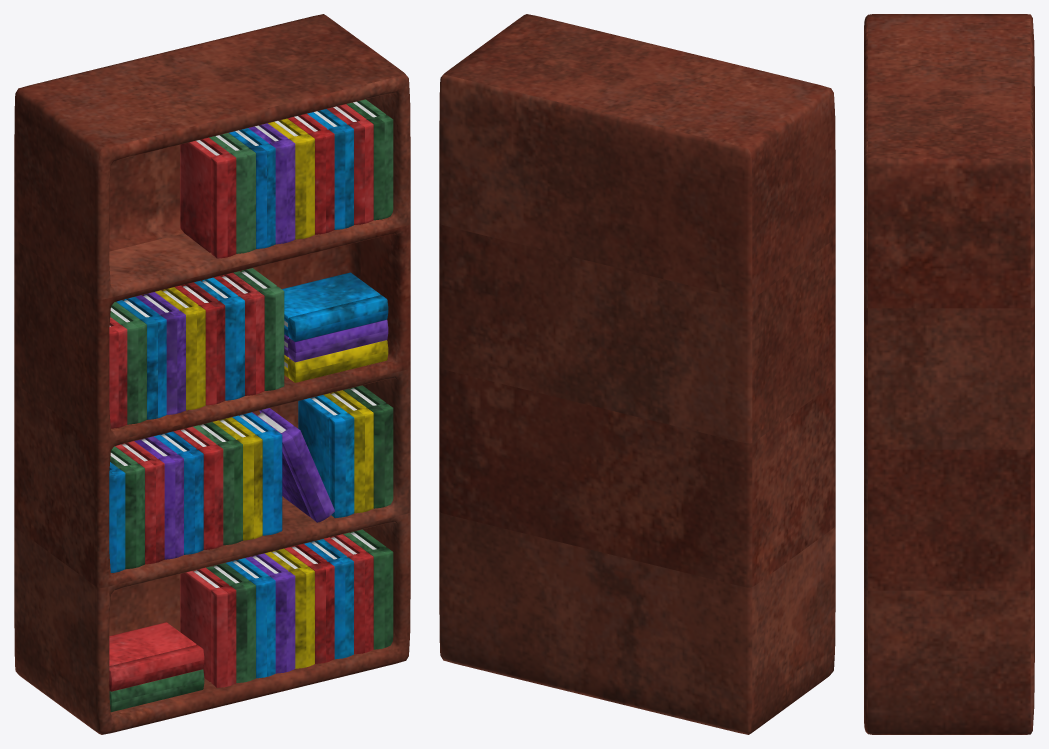
File: Bookshelf.fbx
3 views of the same model, side by side, from view 1: azimuth 30°, elevation 25°; view 2: azimuth 150°, elevation 25°; view 3: azimuth 270°, elevation 25° (orthographic). The views are drawn at different scales.
Visible parts, largest first — view 1: Cube; view 2: Cube; view 3: Cube.
Part boxes in pixels (box(x1,y1,x2,y2)): Cube: box(14, 14, 410, 734); Cube: box(439, 14, 835, 734); Cube: box(864, 14, 1034, 734).
Bounding box in the file's own units: 226 × 405 × 109.
Materials: 1 (1 with a texture image).
